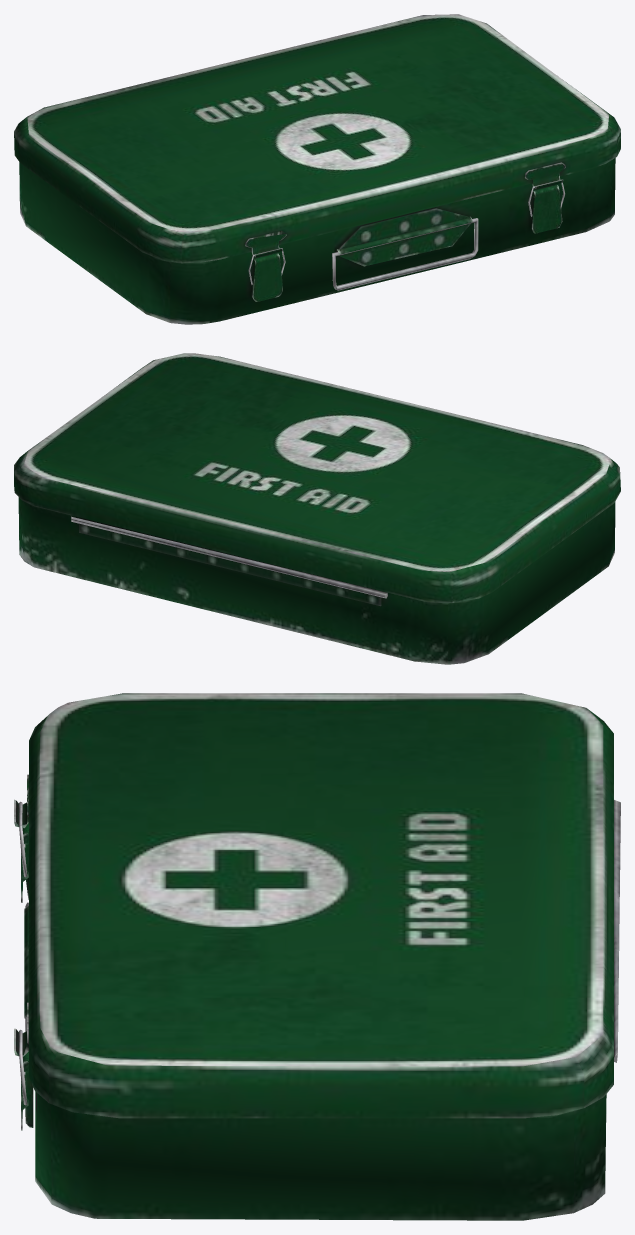
Rendered from medical_box.glb.
3 renders of one model, top to bottom at view 1: azimuth 30°, elevation 25°; view 2: azimuth 150°, elevation 25°; view 3: azimuth 270°, elevation 25°, orthographic. The views are drawn at different scales.
Parts seen in each view (by area): view 1: medical_box_lid, medical_box, medical_box_latch, medical_box_handle; view 2: medical_box_lid, medical_box; view 3: medical_box_lid, medical_box.
Boxes of the visible parts, x1,y1,x2,y2 form: medical_box_lid: (14, 14, 620, 263); medical_box: (19, 158, 615, 324); medical_box_latch: (251, 185, 562, 301); medical_box_handle: (332, 218, 478, 290); medical_box_lid: (14, 353, 620, 603); medical_box: (18, 497, 615, 664); medical_box_lid: (14, 693, 613, 1118); medical_box: (24, 800, 620, 1220).
Bounding box in the file's own units: 0.5255 × 0.0967 × 0.3501.
1 material, 1 textured.
